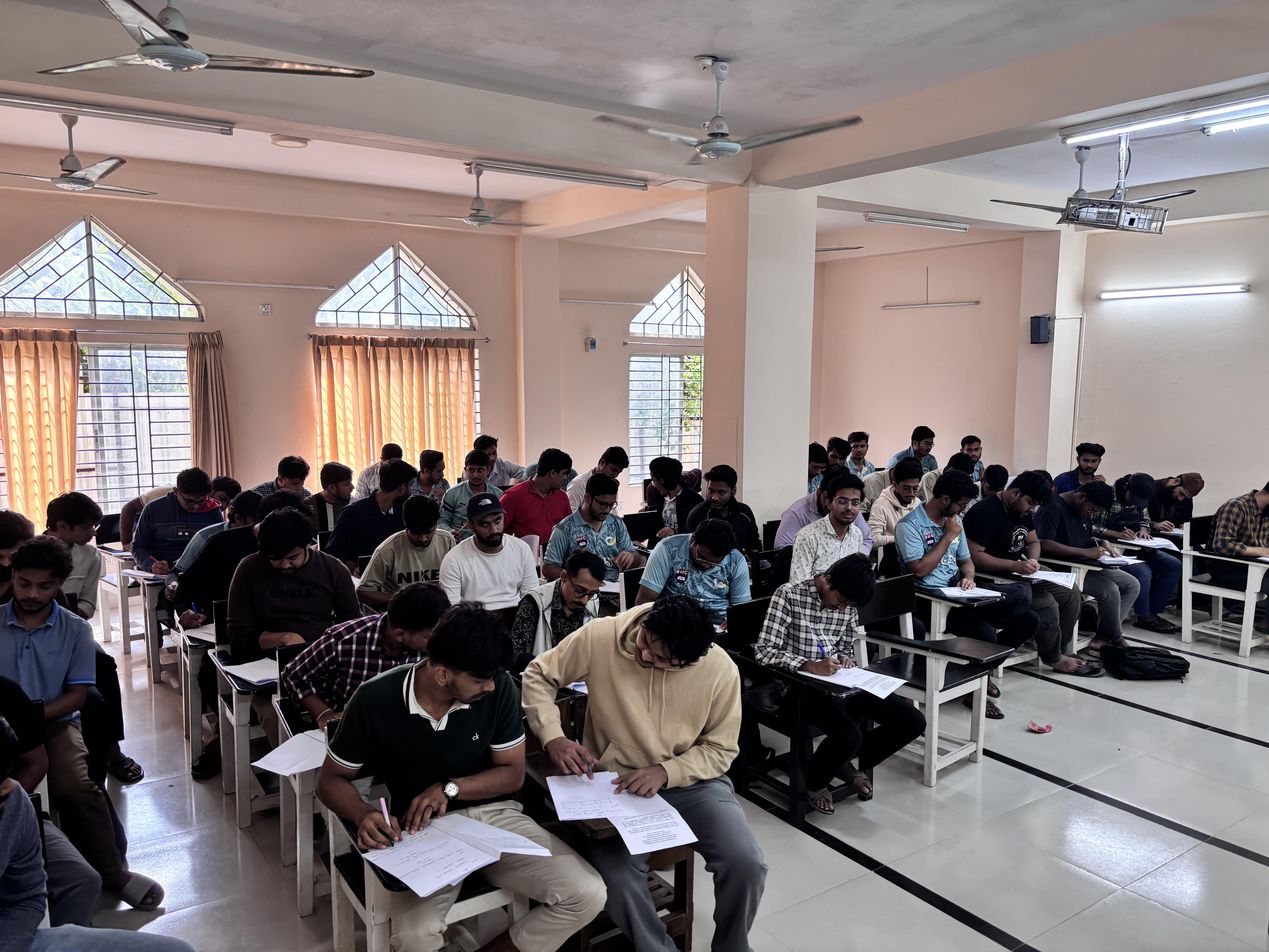copying: (351, 599, 550, 900), (912, 471, 994, 610), (362, 582, 461, 663), (47, 489, 123, 571), (520, 441, 579, 540), (635, 456, 694, 542), (401, 440, 457, 507)
hidden_communication: (808, 433, 853, 488)
no_cheating: (766, 548, 889, 702), (4, 523, 93, 711), (244, 506, 332, 678), (445, 489, 541, 623), (643, 516, 761, 620), (371, 498, 464, 608), (527, 548, 618, 652), (994, 468, 1065, 600), (550, 472, 640, 570), (156, 461, 214, 582), (800, 474, 871, 572), (1147, 457, 1220, 547), (1061, 434, 1113, 497), (268, 450, 321, 502), (895, 420, 944, 469), (951, 426, 1002, 470), (593, 444, 636, 484), (845, 426, 878, 476)
side_talking: (551, 589, 745, 849), (359, 459, 424, 546), (309, 461, 365, 523), (451, 452, 505, 496)
suspicious_moving: (688, 459, 765, 528)
